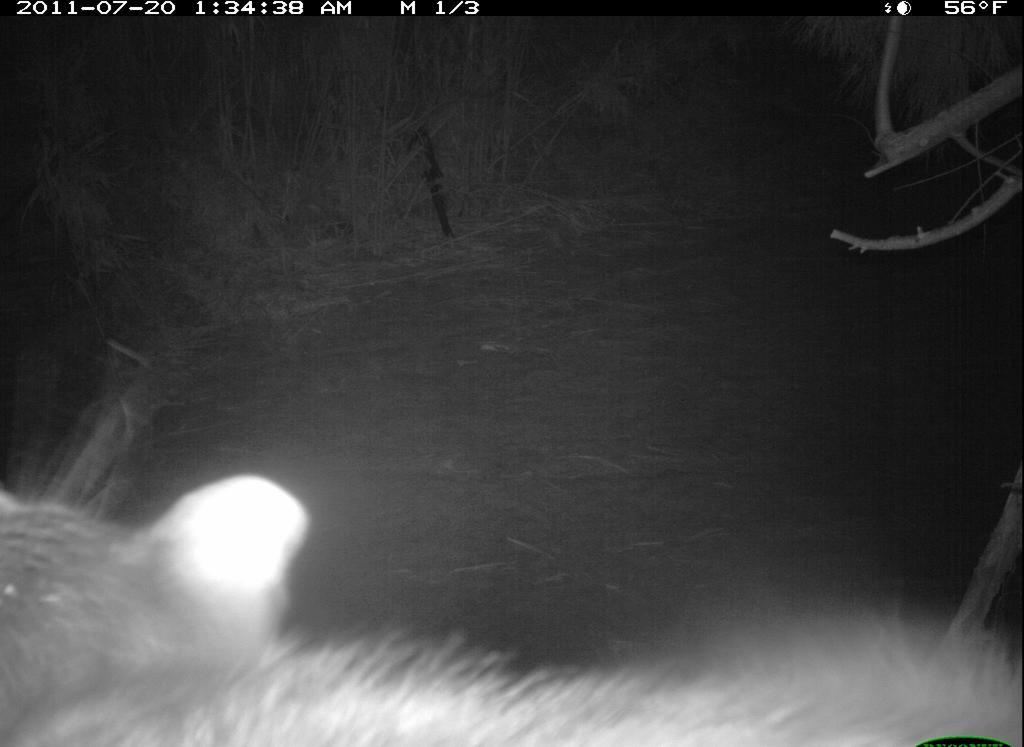raccoon: (2, 452, 1023, 744)
